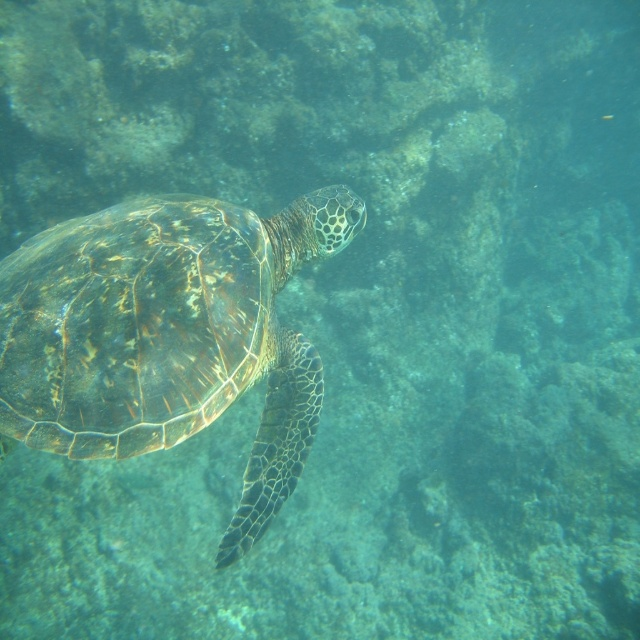Sea turtle: (0, 181, 368, 573)
